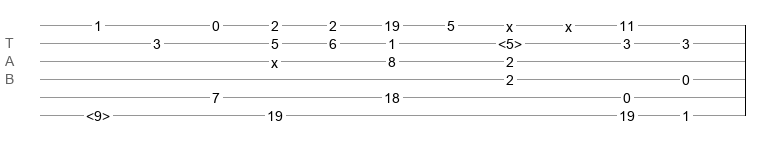0: (212, 18, 220, 28), (623, 90, 631, 100), (682, 72, 690, 82)
1: (94, 18, 102, 28), (388, 36, 396, 46), (682, 108, 690, 118)
11: (619, 18, 635, 28)
18: (384, 90, 400, 100)
19: (267, 108, 283, 118), (384, 18, 400, 28), (619, 108, 635, 118)
2: (271, 18, 279, 28), (329, 18, 337, 28), (506, 72, 514, 82), (506, 54, 514, 64)
3: (153, 36, 161, 46), (623, 36, 631, 46), (682, 36, 690, 46)
5: (271, 36, 279, 46), (447, 18, 455, 28)
6: (329, 36, 337, 46)
7: (212, 90, 220, 100)
8: (388, 54, 396, 64)
harmonic: (86, 108, 110, 118), (498, 36, 522, 46)
x: (271, 55, 278, 63), (506, 19, 513, 27), (565, 19, 572, 27)
